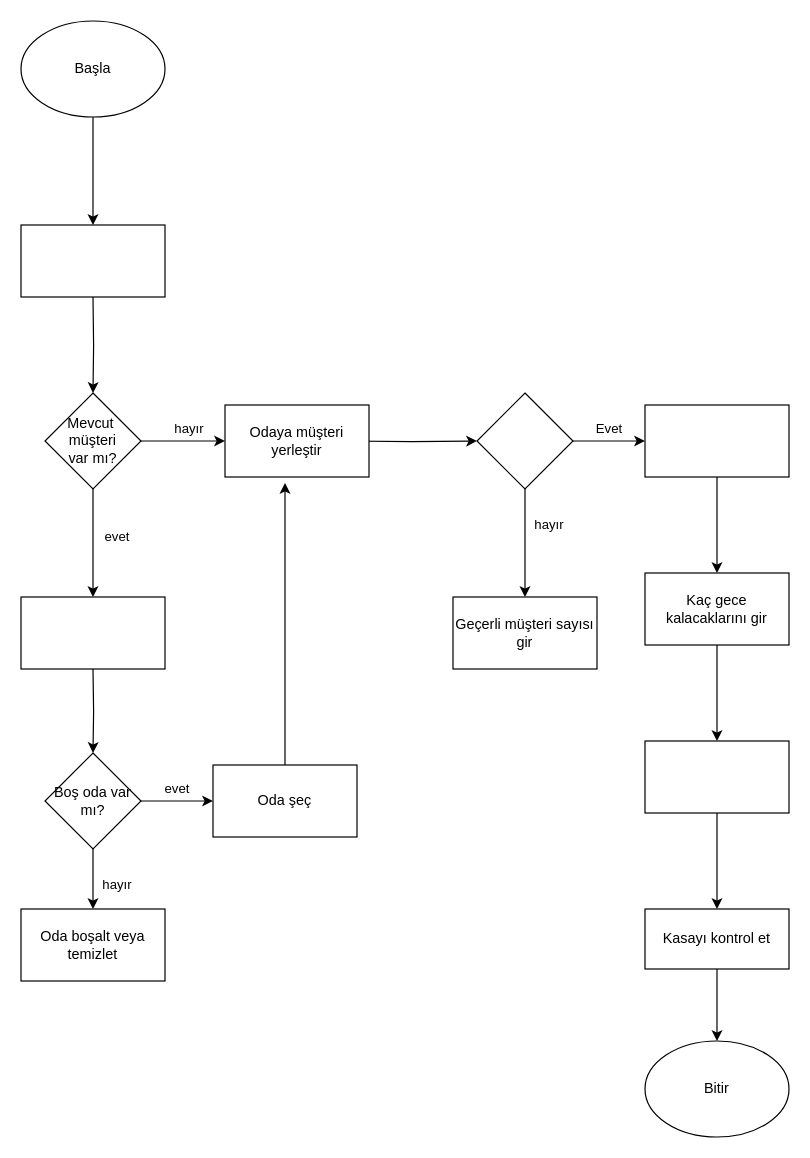
The diagram is 810 pixels wide and 1158 high, and some of its shapes have lost their labels. The centre of each missing label's shape, as x and y in pixels:
Geliri kasaya ekle: point 716,776
Mevcut müşterileri listele: point 92,260
Müşteri sayısı geçerli mi?: point 524,440
Müşterilerin bilgilerini gir: point 716,440
Odaları listele: point 92,632
